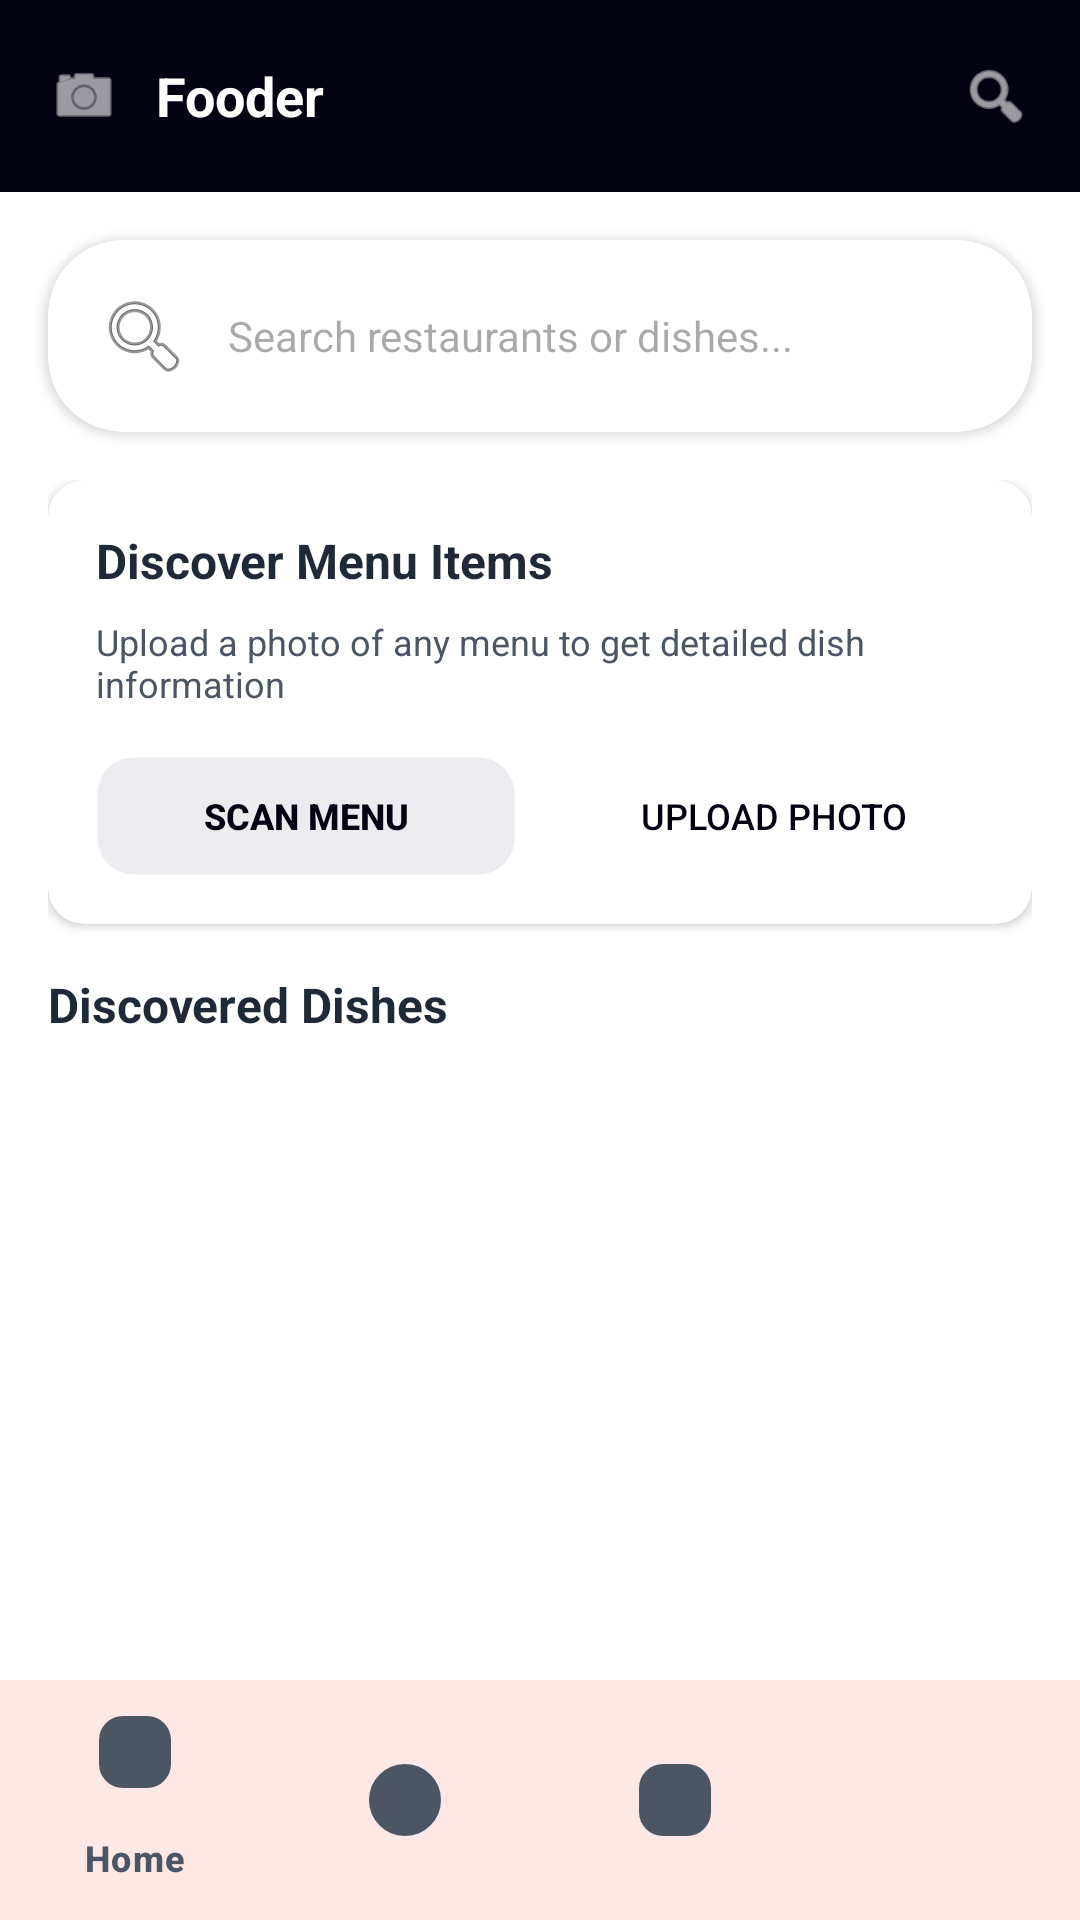

Icons on this 1080w x 1920h Android screen, each with its box as (x1, y1, x2, y2):
camera: (56, 73, 112, 117)
